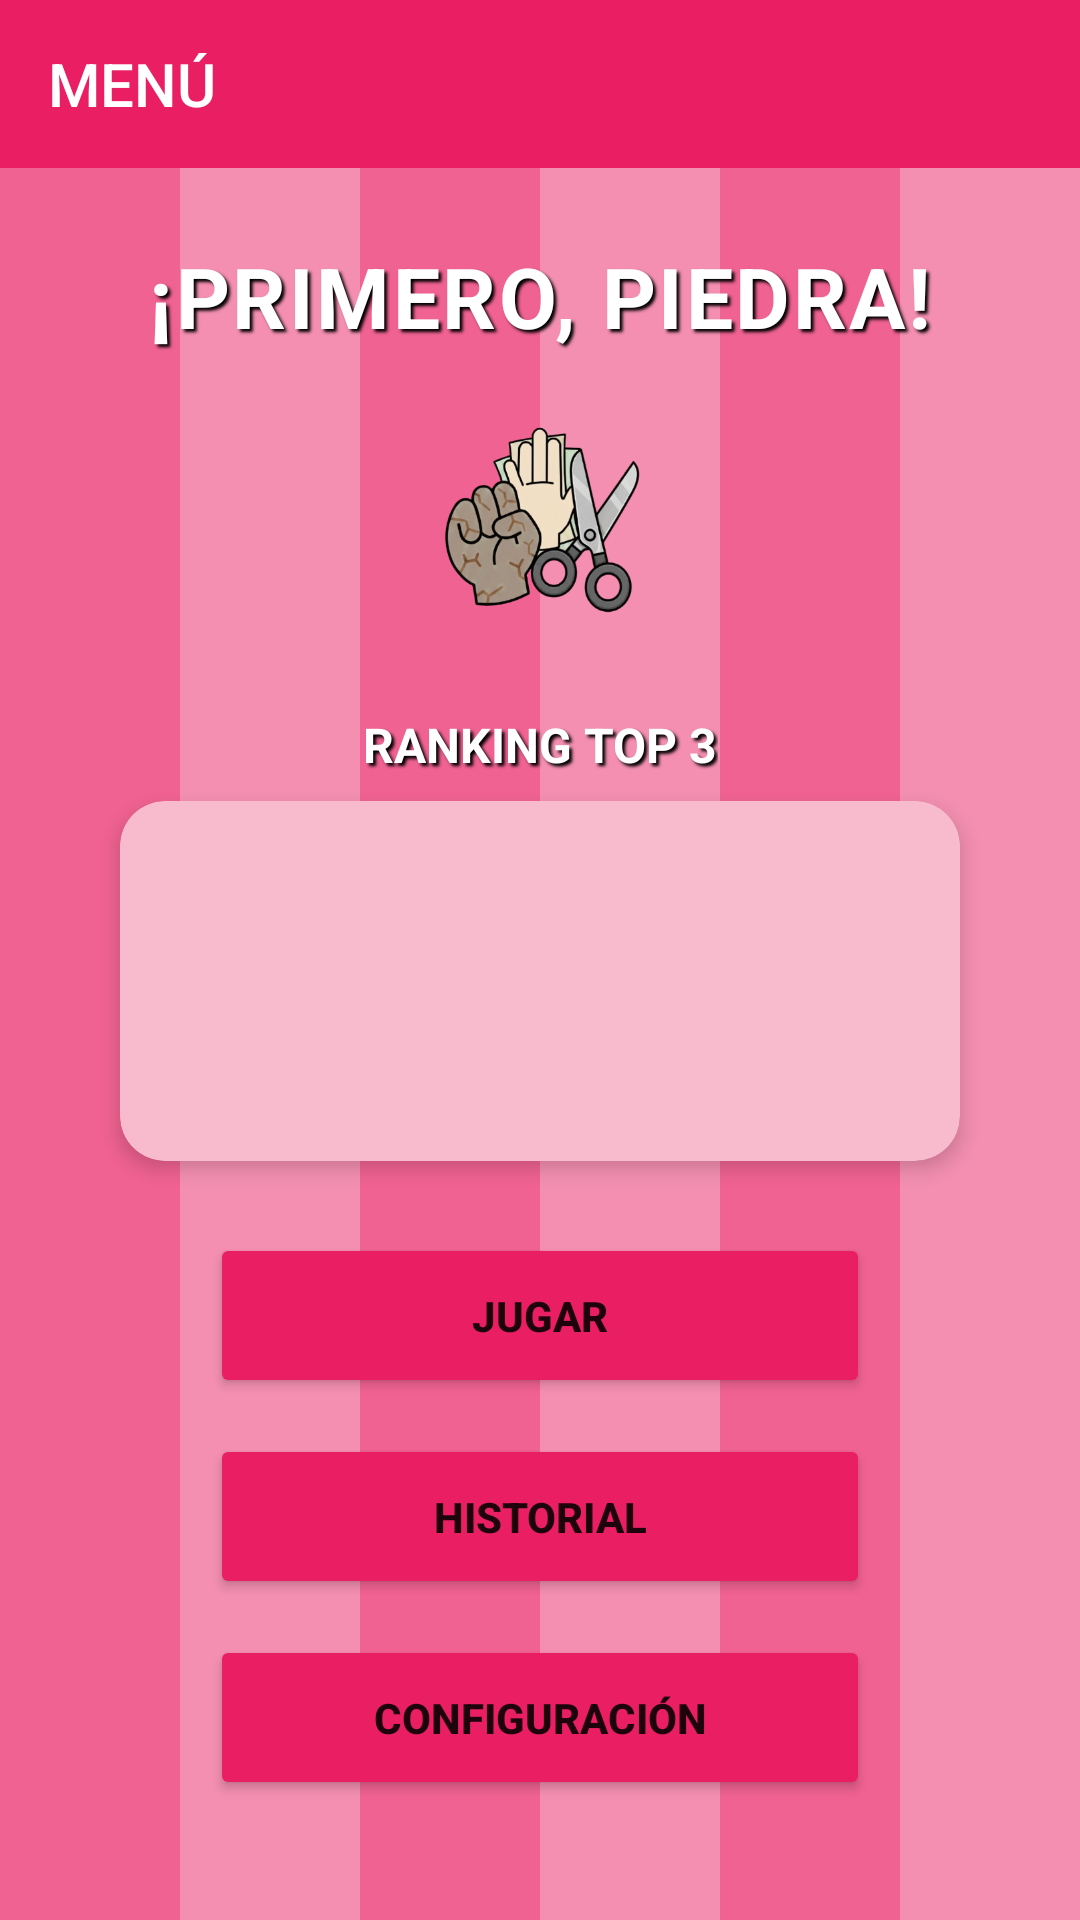

Where to tap for icons on this 1080x1920 app screen, as (x=x, y=y):
manosf: (x=540, y=526)
